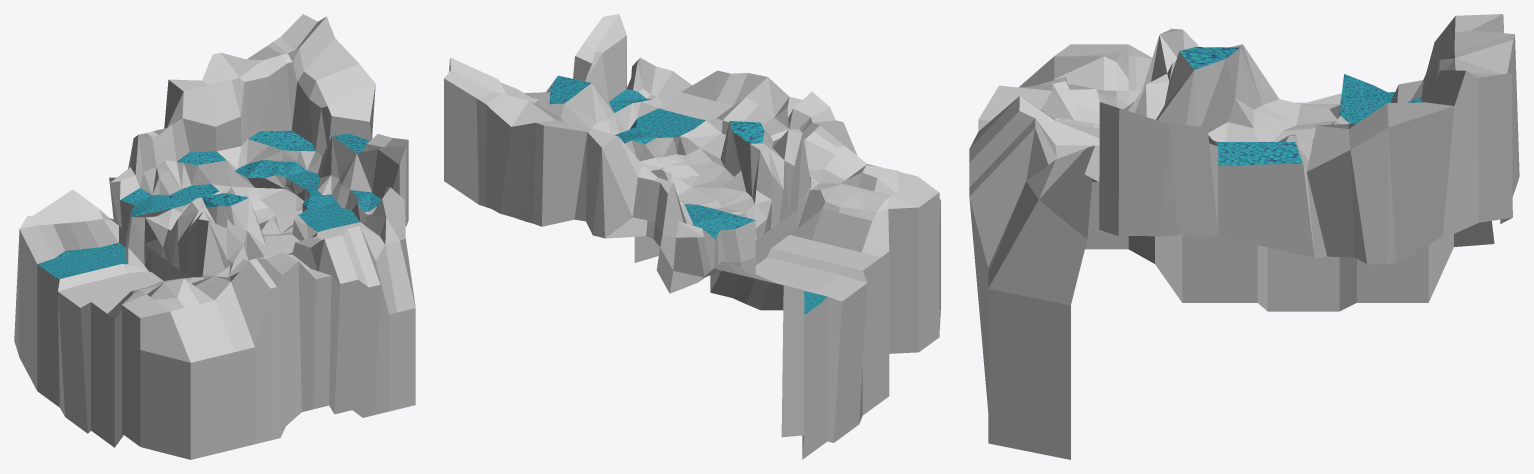
File: Terrain_Lake.fbx
The picture shows the model from 3 angles, left to right: view 1: azimuth 30°, elevation 25°; view 2: azimuth 150°, elevation 25°; view 3: azimuth 270°, elevation 25°; orthographic projection. The views are drawn at different scales.
Parts seen in each view (by area): view 1: Lake Area; view 2: Lake Area; view 3: Lake Area.
Boxes of the visible parts, left/top/right/bottom form: Lake Area: left=14, top=14, right=415, bottom=459; Lake Area: left=444, top=14, right=940, bottom=459; Lake Area: left=969, top=14, right=1519, bottom=459.
Bounding box in the file's own units: 16978 × 14955 × 15697.
